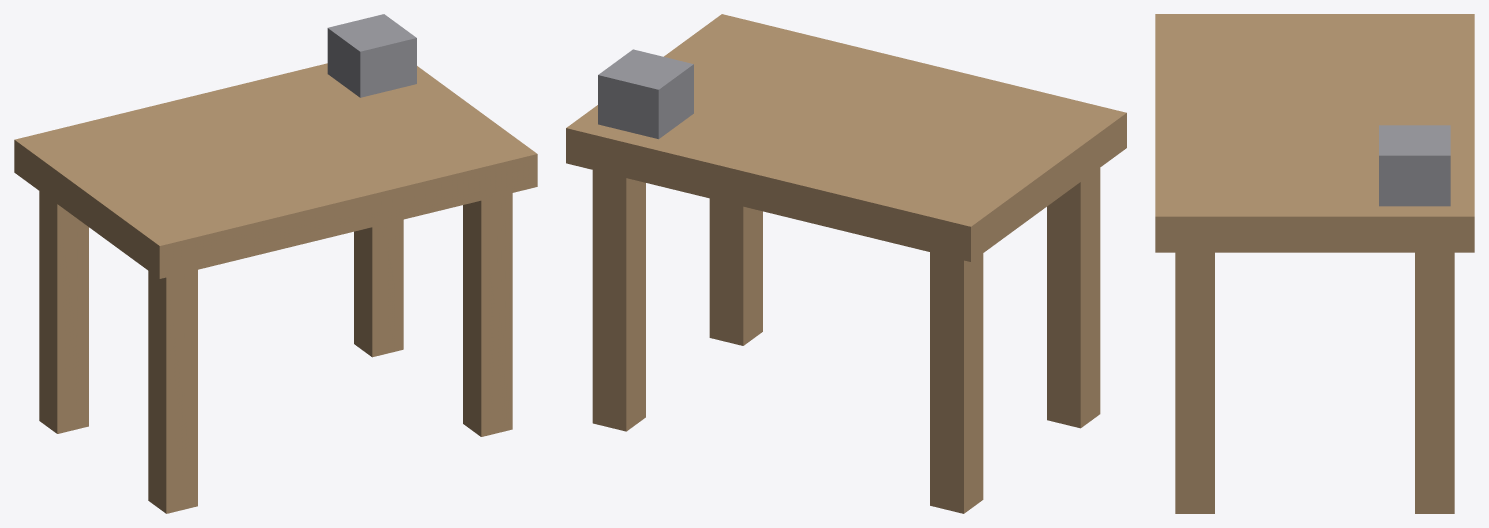
Rendered from workbench.glb.
The picture shows the model from 3 angles, left to right: view 1: azimuth 30°, elevation 25°; view 2: azimuth 150°, elevation 25°; view 3: azimuth 270°, elevation 25°; orthographic projection. The views are drawn at different scales.
Parts seen in each view (by area): view 1: TableTop, TableLeg_0, TableLeg_2, TableLeg_1, TableLeg_3, WorkbenchVise; view 2: TableTop, TableLeg_1, TableLeg_3, TableLeg_0, TableLeg_2, WorkbenchVise; view 3: TableTop, TableLeg_2, TableLeg_3, WorkbenchVise.
Part boxes in pixels (x1,y1,x2,y2): TableTop: (14,63,537,278); TableLeg_0: (148,270,197,513); TableLeg_2: (463,193,512,436); TableLeg_1: (39,191,88,433); TableLeg_3: (354,219,403,357); WorkbenchVise: (327,14,416,97); TableTop: (566,14,1126,261); TableLeg_1: (930,252,983,513); TableLeg_3: (592,170,645,431); TableLeg_0: (1047,168,1100,428); TableLeg_2: (709,198,762,345); WorkbenchVise: (598,49,693,139); TableTop: (1155,14,1474,252); TableLeg_2: (1175,252,1214,513); TableLeg_3: (1415,252,1454,513); WorkbenchVise: (1379,125,1450,206).
Bounding box in the file's own units: 1.2 × 0.985 × 0.8.
